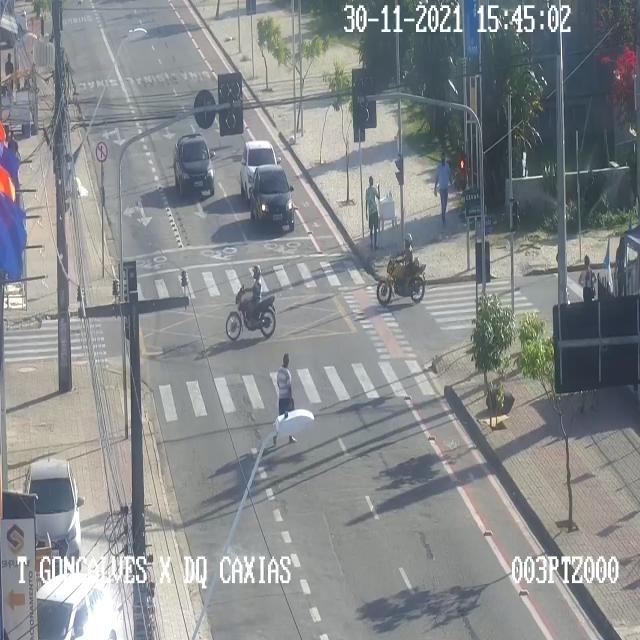Car: (24, 461, 84, 560), (37, 575, 121, 639), (238, 134, 283, 208), (250, 167, 292, 231), (174, 135, 216, 196)
Motorcycle: (226, 266, 276, 338), (375, 235, 425, 305)
